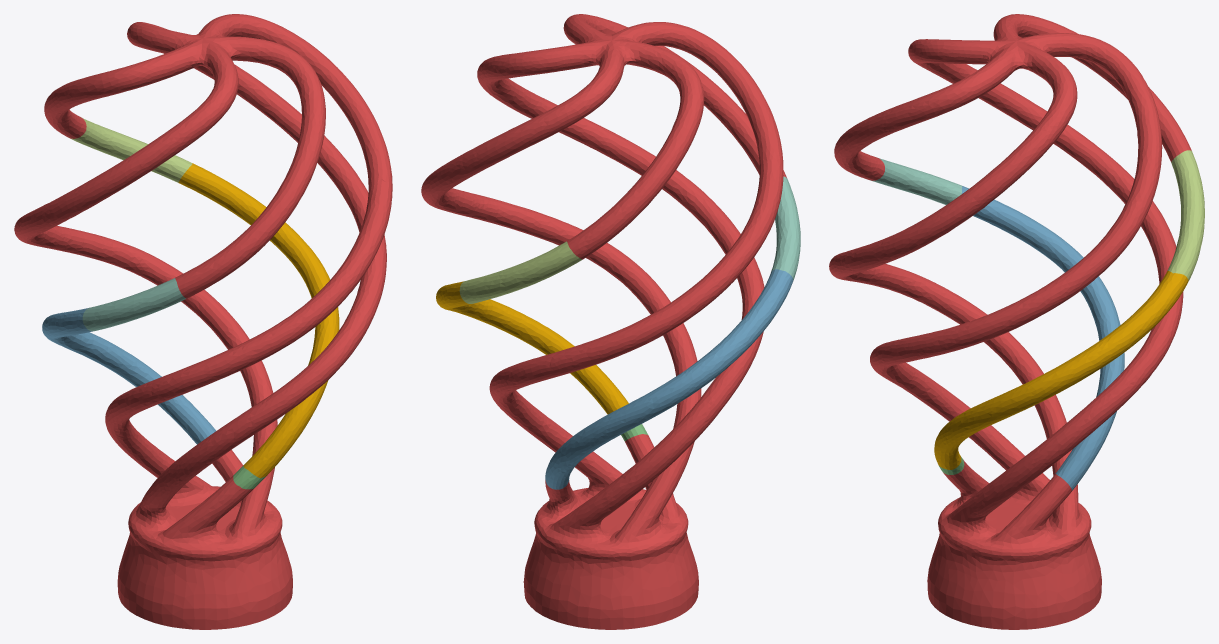
Rendered from fractured_6_6pcs.glb.
The picture shows the model from 3 angles, left to right: view 1: azimuth 30°, elevation 25°; view 2: azimuth 150°, elevation 25°; view 3: azimuth 270°, elevation 25°; orthographic projection.
Visible parts, largest first — view 1: piece_1.obj, piece_0.obj, piece_2.obj, piece_4.obj, piece_5.obj; view 2: piece_1.obj, piece_2.obj, piece_0.obj, piece_5.obj, piece_4.obj; view 3: piece_1.obj, piece_0.obj, piece_2.obj, piece_5.obj, piece_4.obj.
Boxes of the visible parts, x1,y1,x2,y2 form: piece_1.obj: [14, 14, 392, 629]; piece_0.obj: [178, 163, 339, 478]; piece_2.obj: [42, 308, 215, 444]; piece_4.obj: [82, 278, 186, 331]; piece_5.obj: [68, 117, 192, 182]; piece_1.obj: [421, 14, 786, 629]; piece_2.obj: [545, 269, 793, 489]; piece_0.obj: [436, 281, 628, 414]; piece_5.obj: [459, 241, 582, 303]; piece_4.obj: [771, 176, 800, 281]; piece_1.obj: [829, 14, 1191, 629]; piece_0.obj: [934, 271, 1188, 469]; piece_2.obj: [961, 186, 1124, 490]; piece_5.obj: [1167, 150, 1204, 280]; piece_4.obj: [870, 158, 962, 204].
Size of the model in its own units: 0.6206 by 1 by 0.6175.
